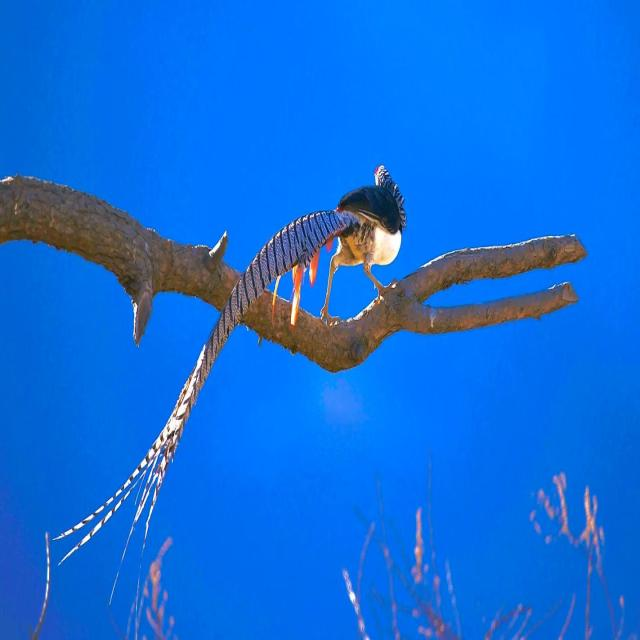Chrysolophus amherstiae: (96, 210, 358, 536)
